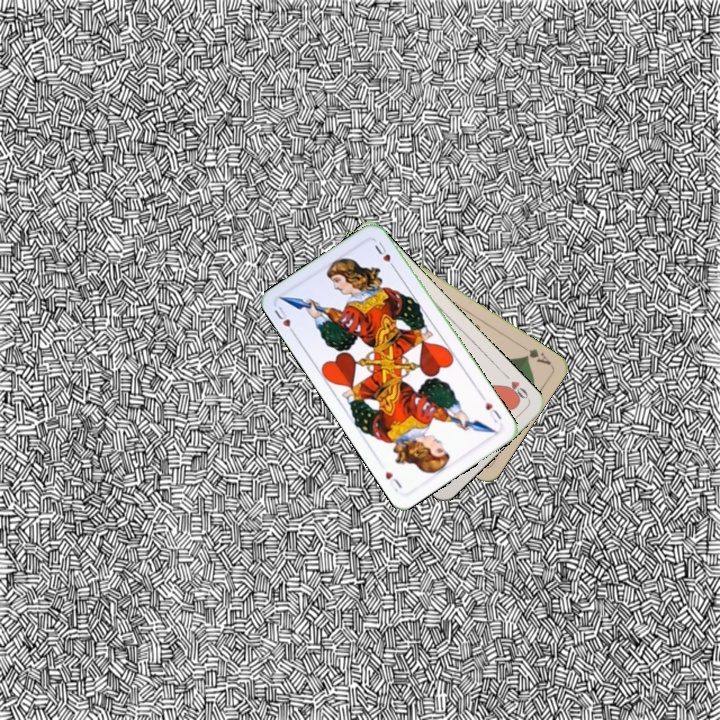GA: (517, 342, 553, 368)
HO: (500, 369, 531, 404)
HU: (270, 301, 299, 339), (481, 398, 504, 425)
